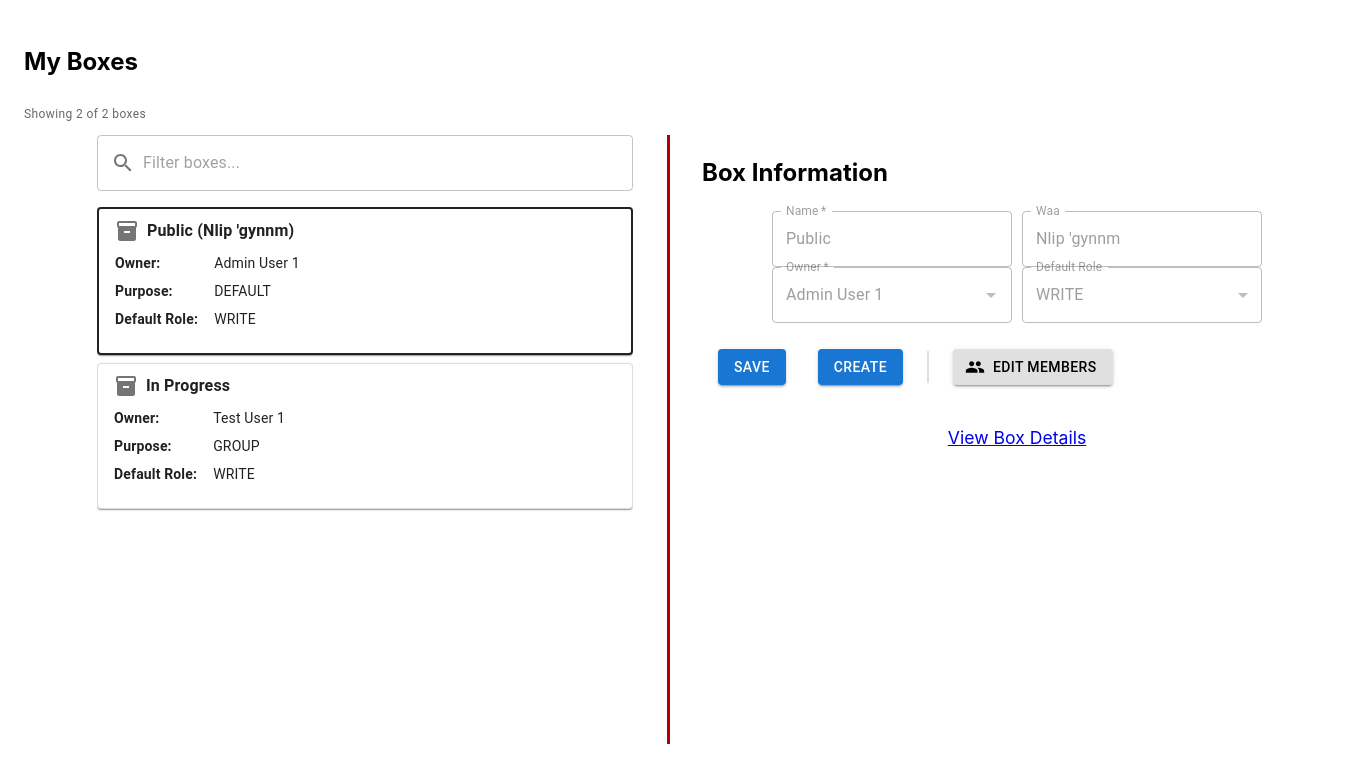
Test case: BoxListPage tests › Search field filters boxes
Type "Public" into the field with placeholder "Filter boxes..." at (388, 163), box [143,135,633,191]
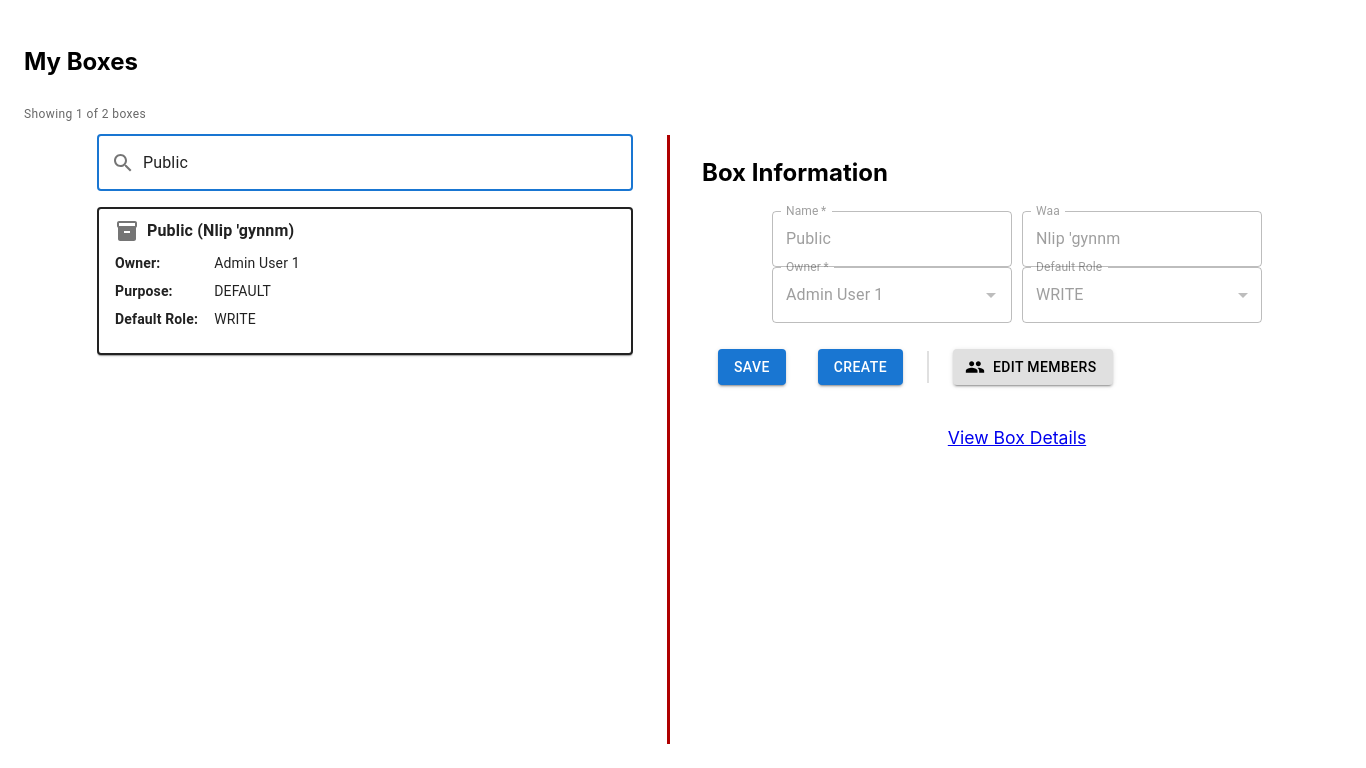
Expected: the heading "In Progress" is gone
